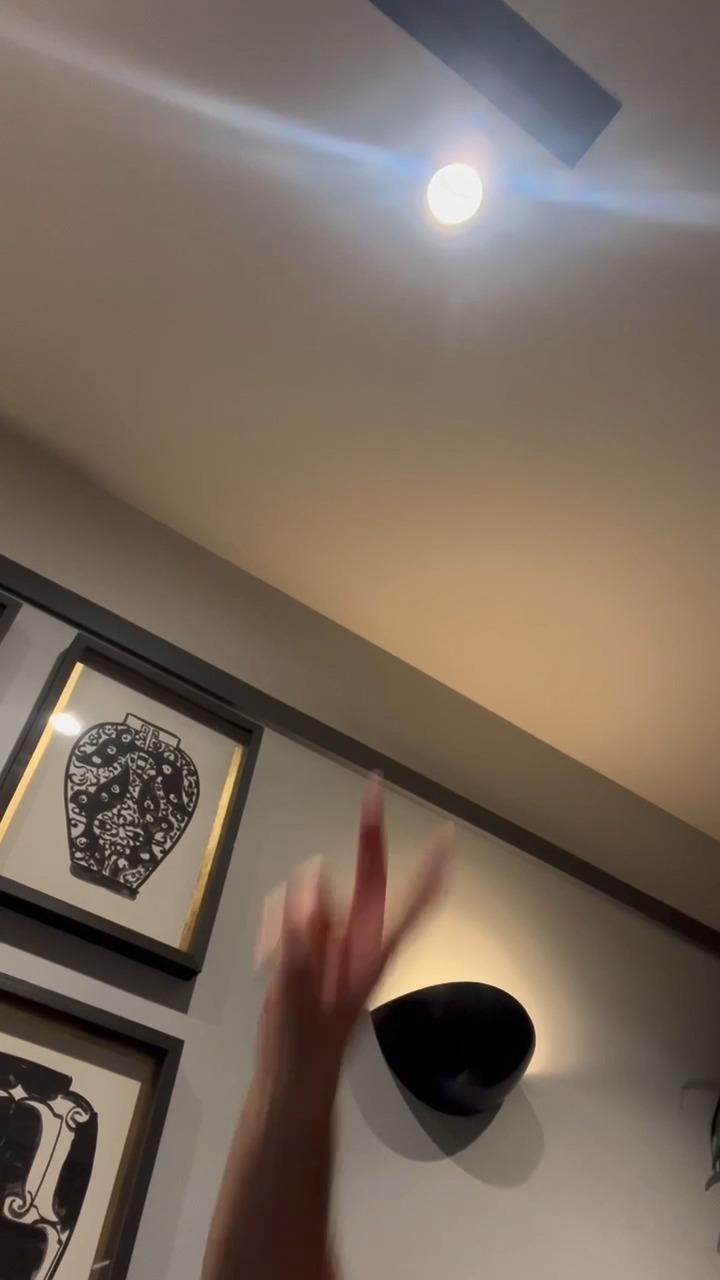Scissors: (254, 776, 458, 1058)
